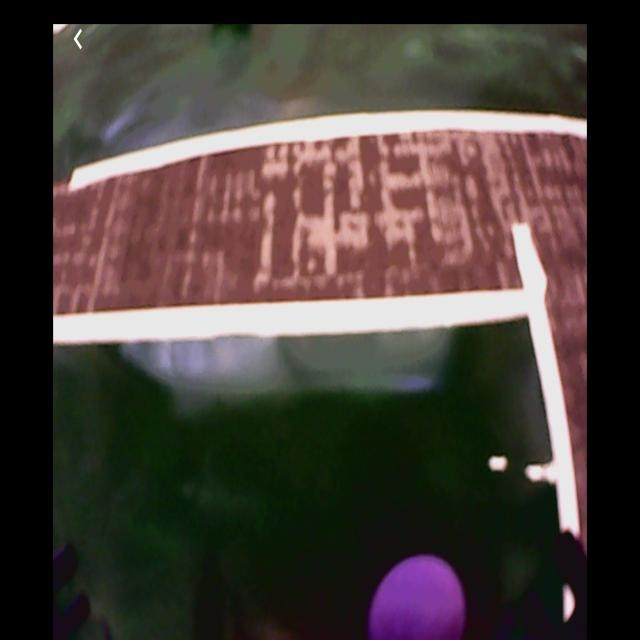ball: (367, 554, 468, 638)
